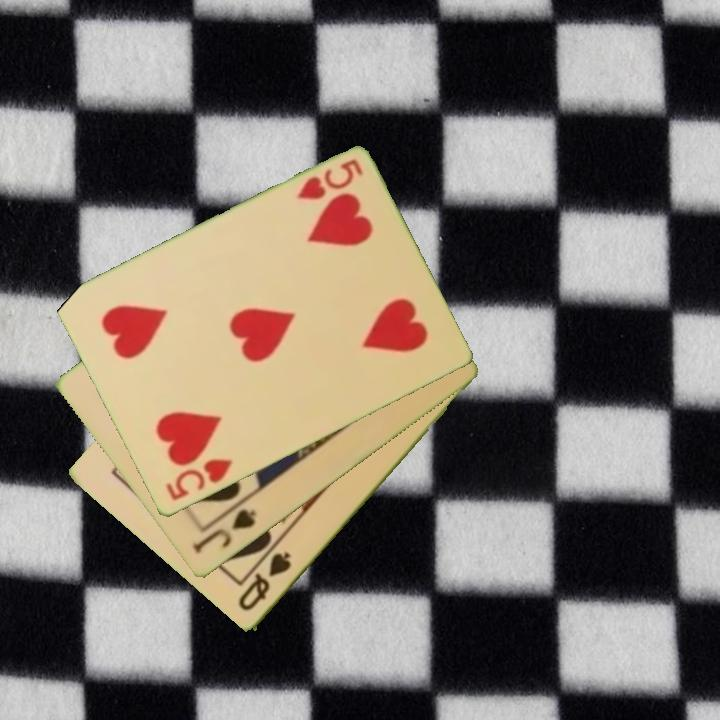5h: (162, 455, 236, 504), (293, 156, 366, 204)
Js: (188, 506, 260, 558)
Qs: (234, 548, 294, 614)
